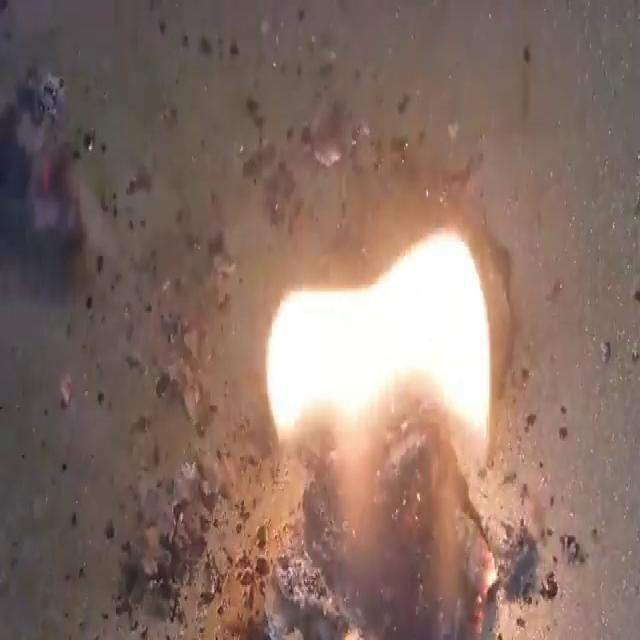Fire: (210, 188, 535, 640)
